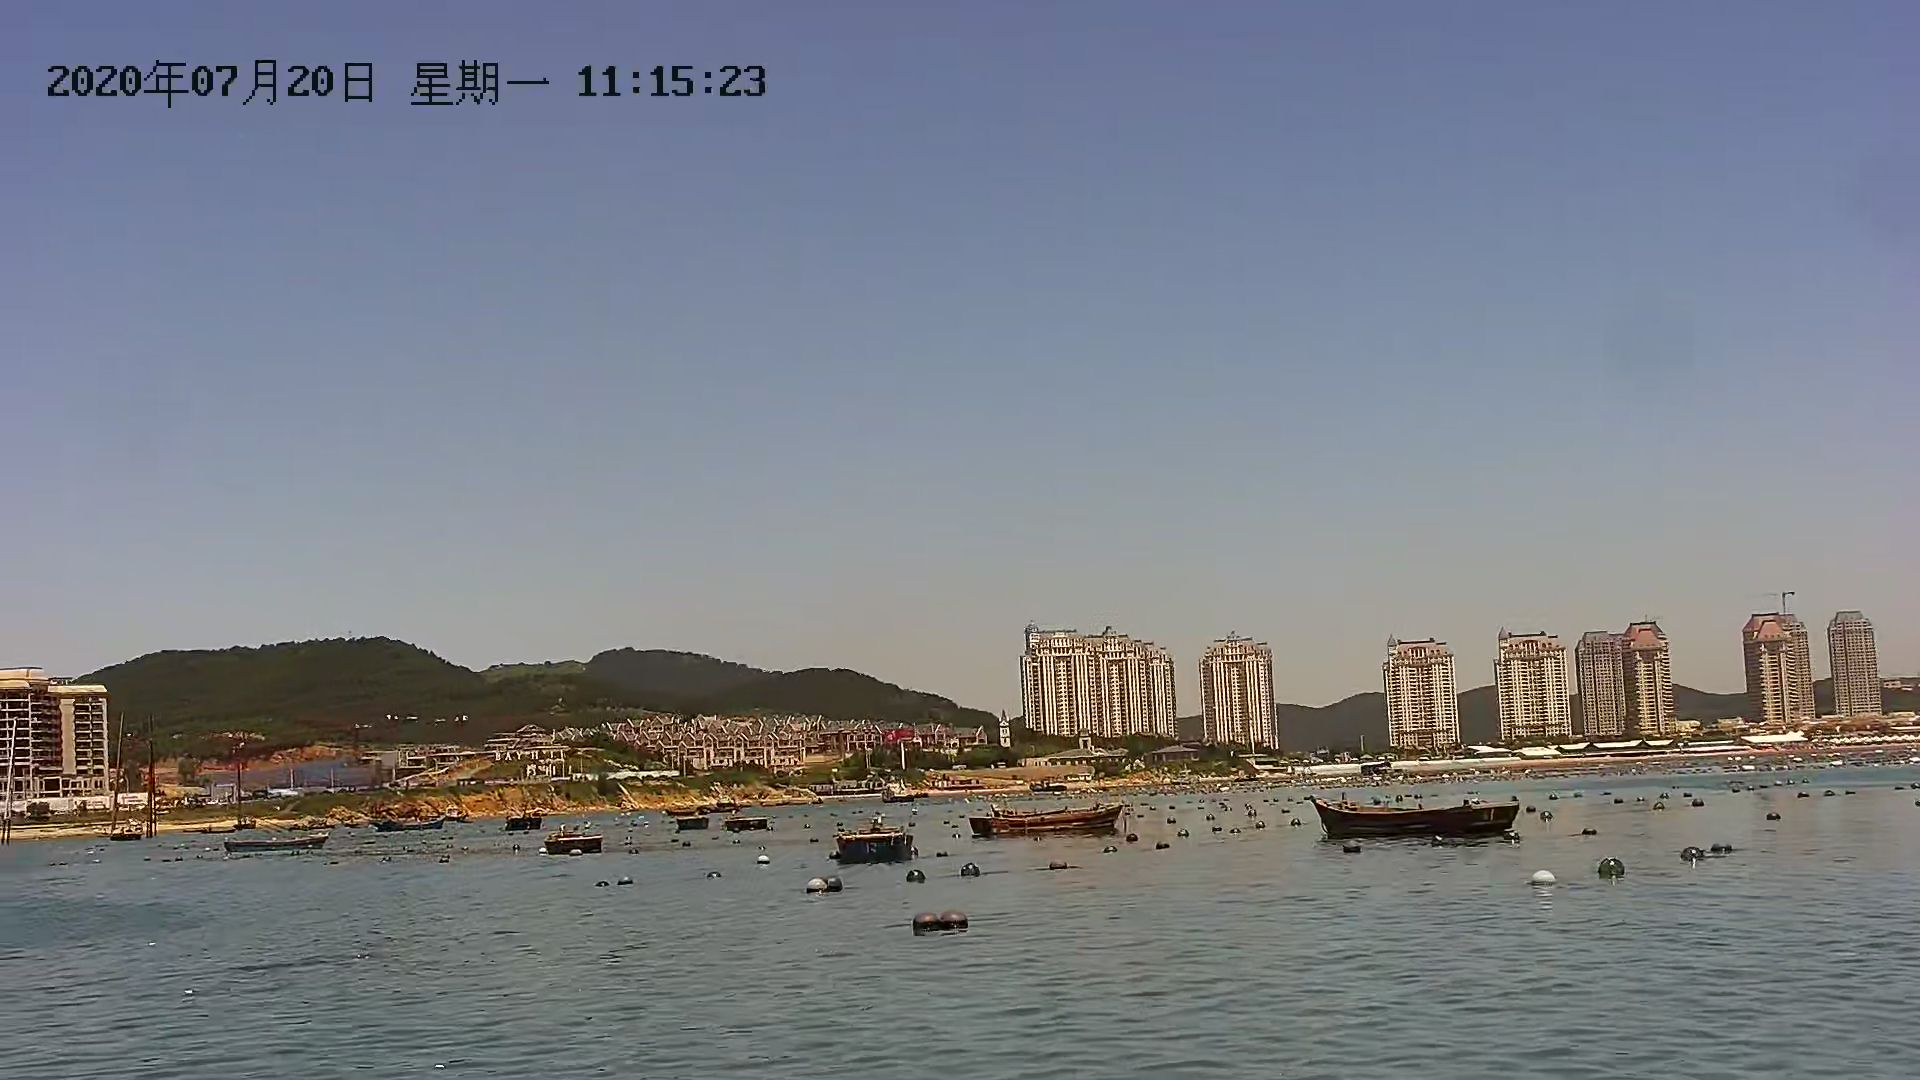ball: (1593, 853, 1640, 882), (910, 909, 944, 939), (796, 876, 843, 897), (951, 865, 1000, 884), (1534, 862, 1563, 887), (903, 866, 938, 887), (943, 913, 975, 934), (1681, 843, 1712, 861)
boat: (1315, 787, 1528, 845), (967, 808, 1124, 841), (819, 818, 919, 862), (543, 828, 611, 858)
